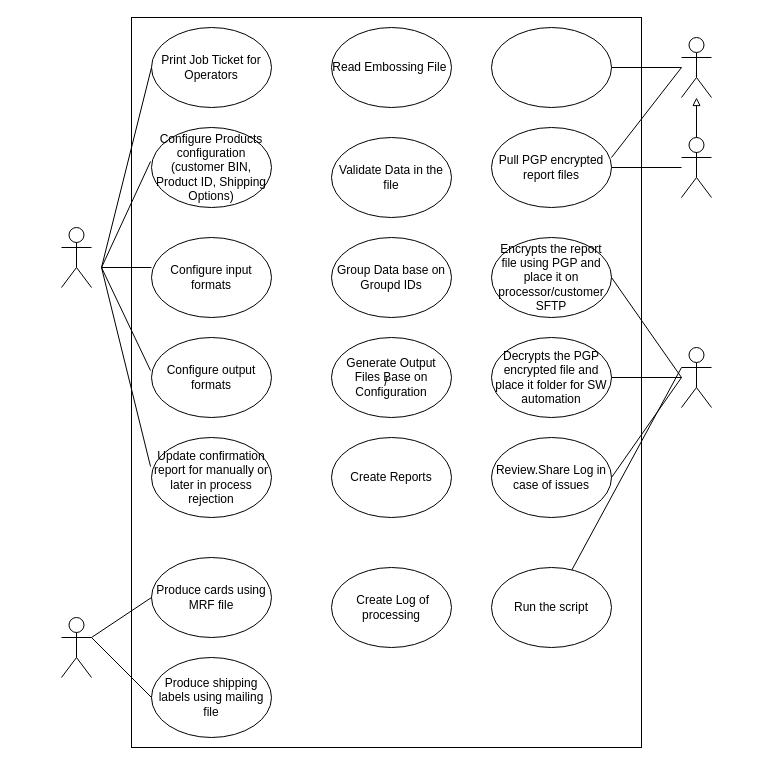
The diagram is 761 pixels wide and 765 high, and some of its shapes have lost their labels. Here are the shapes that lost their labels. From the top down, the centre of each, then its label:
(551,67): Push PGP Encrypted embossing file to SFTP
(696,67): Processor
(696,167): Issuer - Customer
(76,257): User - Perso Admin
(696,377): Perso IT
(76,647): User - Perso Operator
